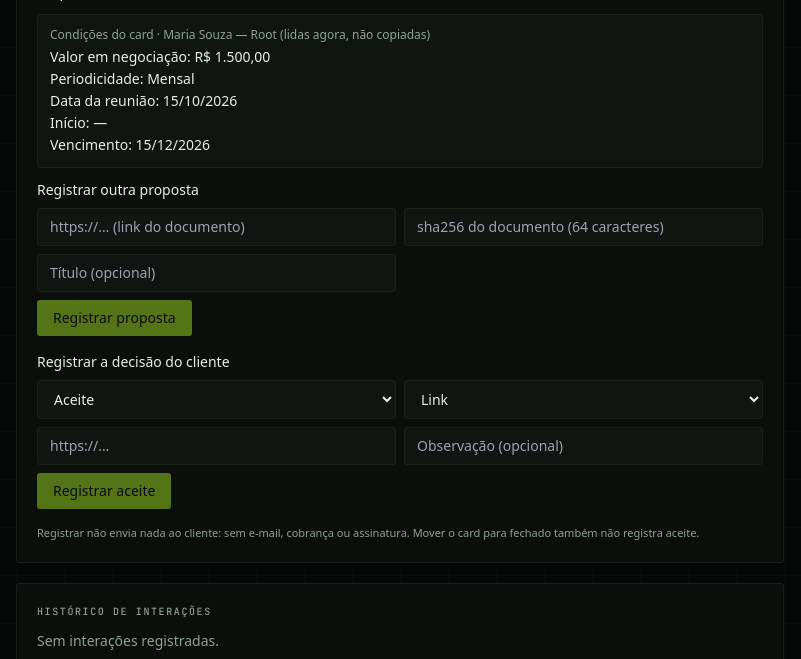
Test: ROOT-49: Proposta e aceite na tela do lead › replayed: a resposta de uma decisão repetida diz "Decisão já registrada", não "Aceite registrado"
(page scrolled)
Step 1. Type "https://drive.exemplo/aceite" into the field named "Link da evidência" → [216, 446], box [37,427,396,465]
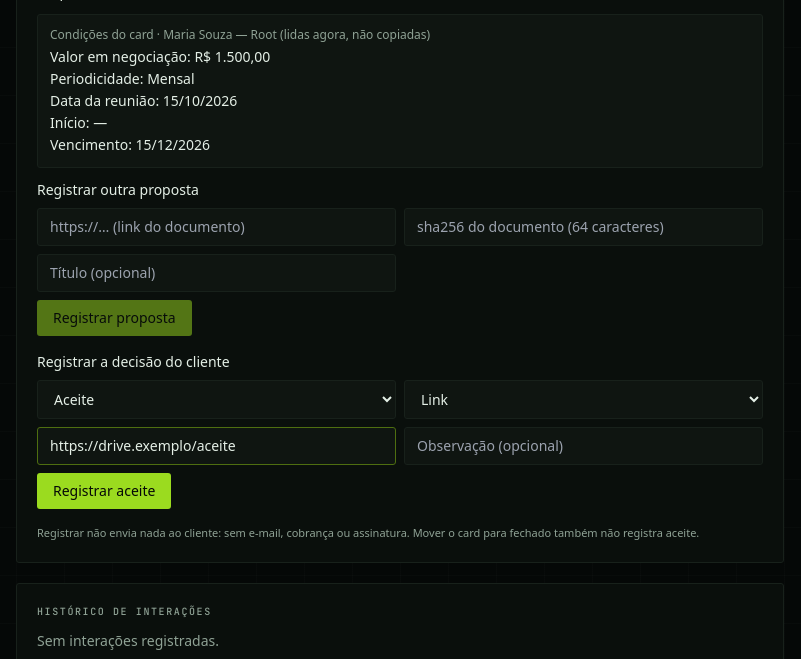
Step 2. Click the button "Registrar aceite" → [104, 491], box [37,473,171,509]
(page scrolled)
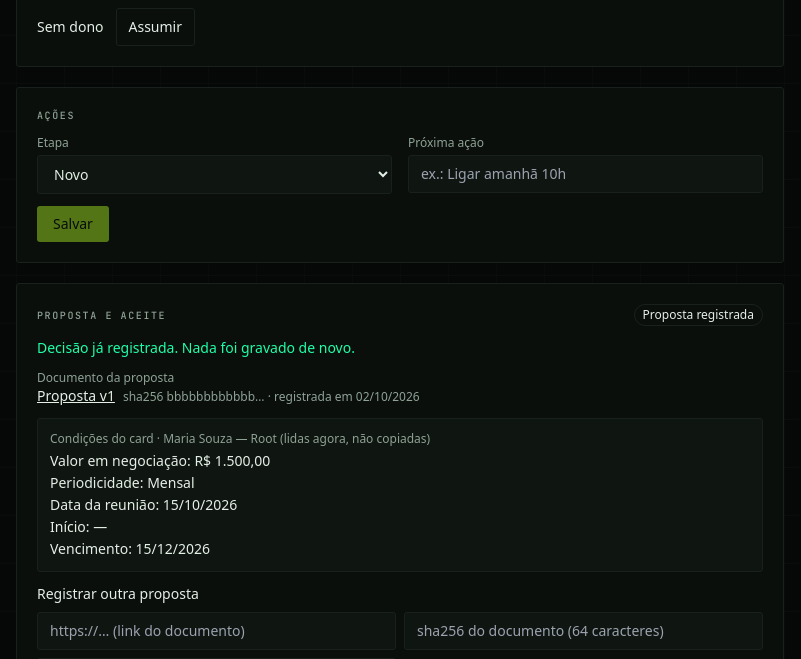
Now the text "Decisão já registrada. Nada foi gravado de novo." is shown, box [37,338,355,357]
